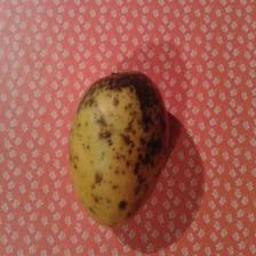Mango Rotten: (59, 64, 168, 225)
